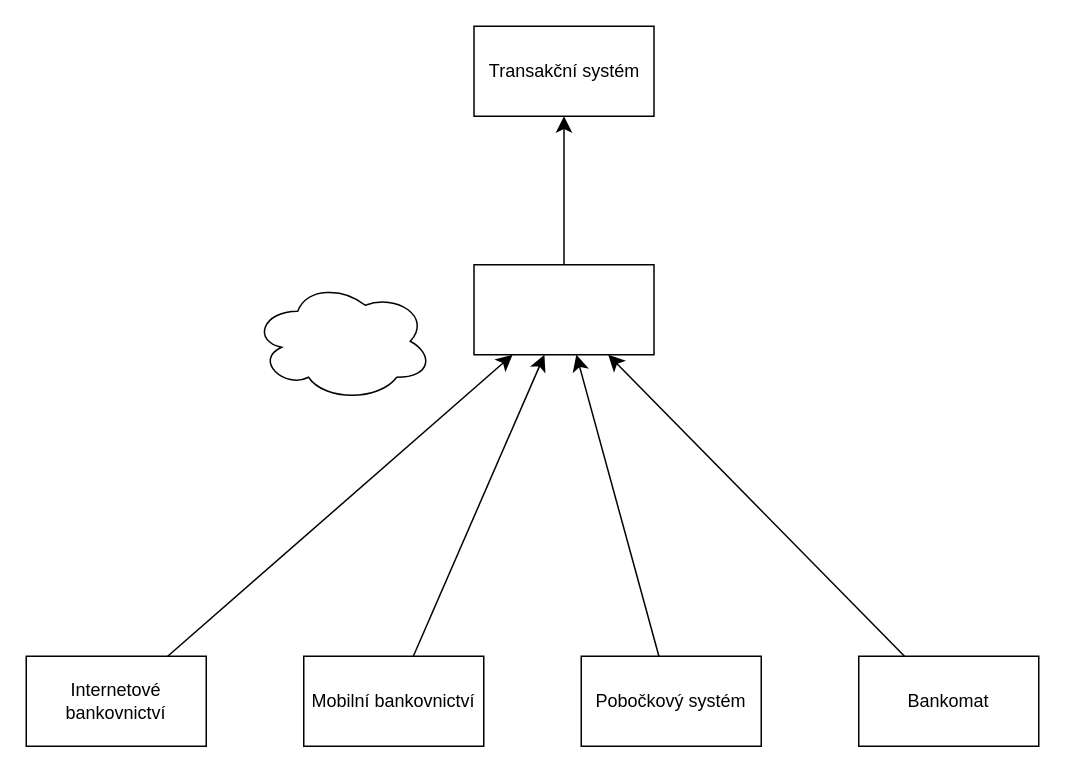
This 1065x773 diagram has some shape labels left out. The shapes that lost their labels are listed below. From the top down, each one's box as (x1, y1, x2, y2) in pixels, then its label:
(472, 263, 654, 355): CBS
(251, 280, 433, 401): ESB omitted for brevity
